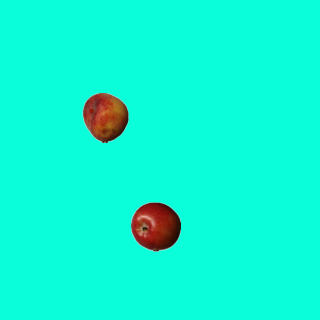Apple Braeburn: (130, 201, 180, 251)
Peach: (80, 92, 130, 142)
